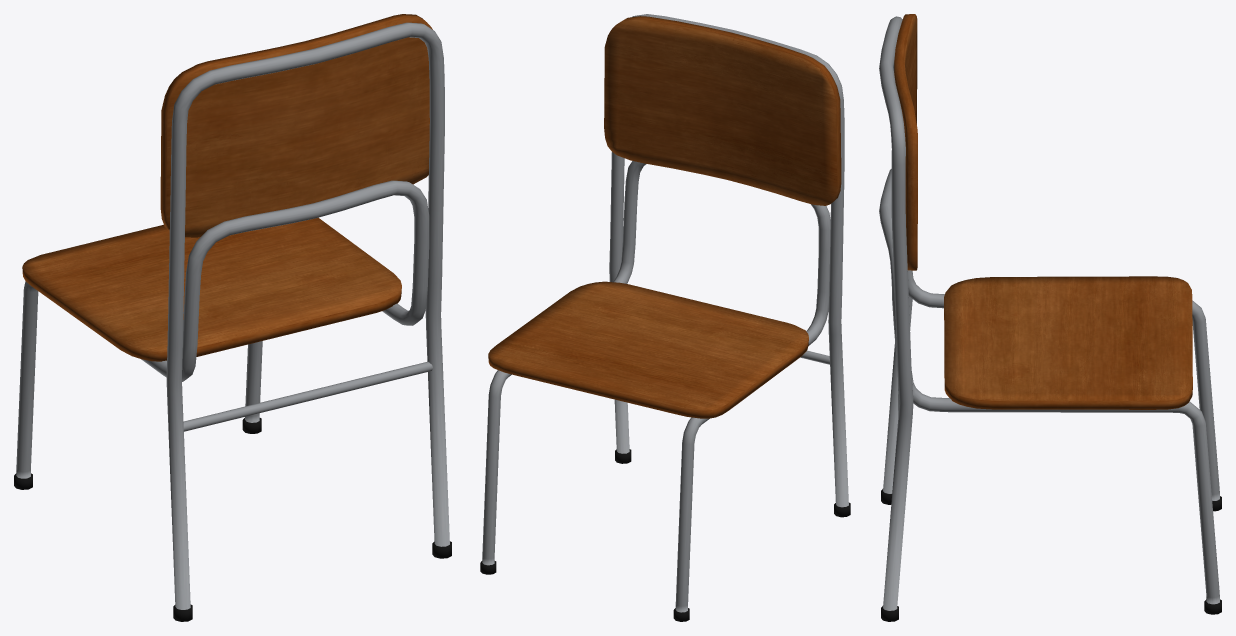
File: School_Chair.fbx
The picture shows the model from 3 angles, left to right: view 1: azimuth 30°, elevation 25°; view 2: azimuth 150°, elevation 25°; view 3: azimuth 270°, elevation 25°; orthographic projection. The views are drawn at different scales.
Visible parts, largest first — view 1: School_Chair; view 2: School_Chair; view 3: School_Chair.
Part boxes in pixels (x1,y1,x2,y2): School_Chair: (14,14,451,621); School_Chair: (480,14,850,621); School_Chair: (879,14,1221,621).
Size of the model in its own units: 51.41 by 95.71 by 59.6.
Materials: 1 (1 with a texture image).
